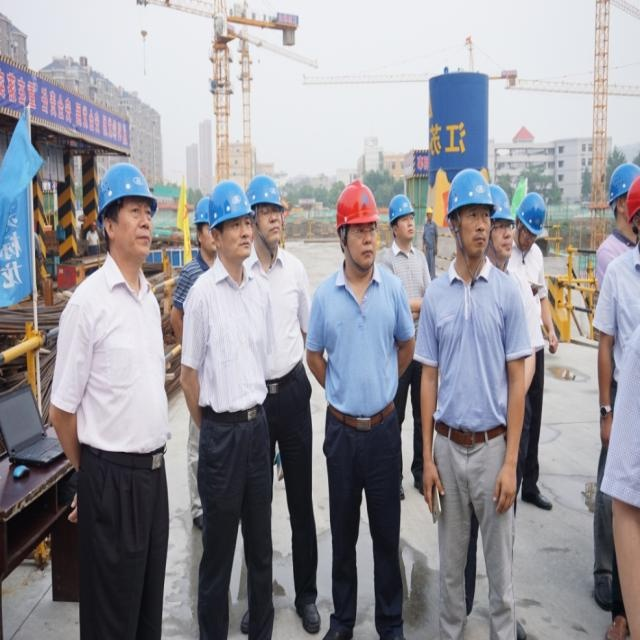Con_Casco: (97, 163, 155, 266), (335, 180, 377, 264)
Sin_Chaleco: (427, 255, 523, 433), (186, 263, 267, 413), (320, 268, 402, 416)
